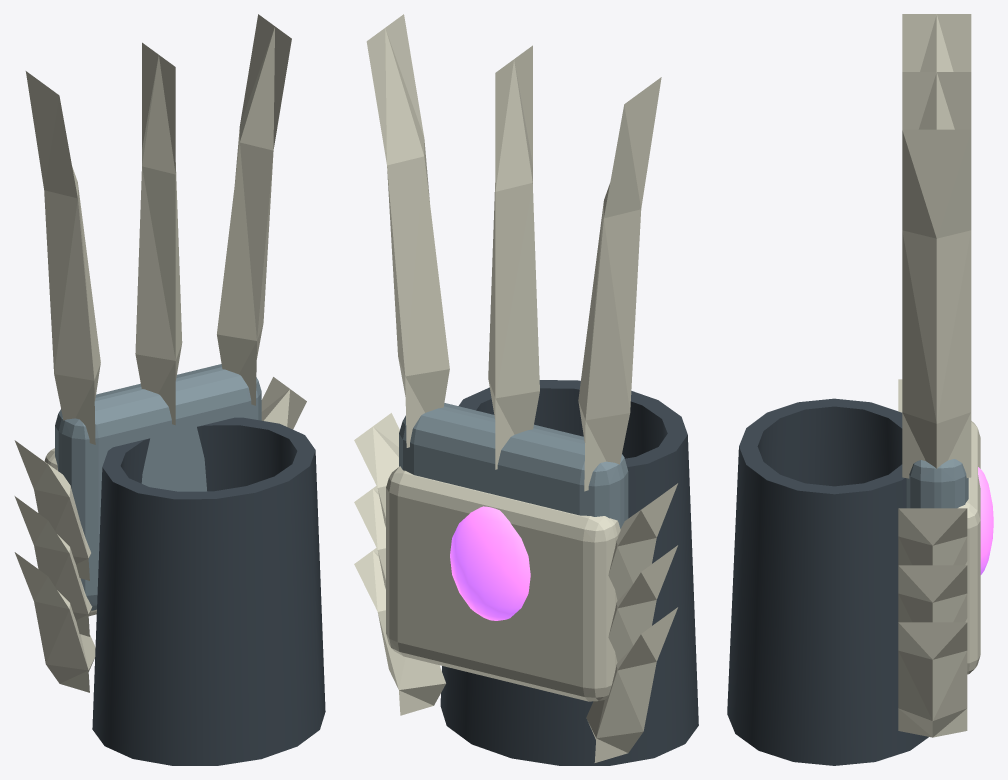
The model's file is YK_02_Claw_Weapon_E02.glb.
3 renders of one model, left to right at view 1: azimuth 30°, elevation 25°; view 2: azimuth 150°, elevation 25°; view 3: azimuth 270°, elevation 25°, orthographic. The views are drawn at different scales.
Visible parts, largest first — view 1: SM_YK_02_Claw_Weapon_P00, SM_YK_02_Claw_Weapon_P02; view 2: SM_YK_02_Claw_Weapon_P00, SM_YK_02_Claw_Weapon_P01, SM_YK_02_Claw_Weapon_P02; view 3: SM_YK_02_Claw_Weapon_P00, SM_YK_02_Claw_Weapon_P02, SM_YK_02_Claw_Weapon_P01.
Boxes of the visible parts, box(x1,y1,x2,y2) form: SM_YK_02_Claw_Weapon_P00: box(25, 14, 325, 765); SM_YK_02_Claw_Weapon_P02: box(14, 377, 306, 692); SM_YK_02_Claw_Weapon_P00: box(366, 14, 698, 765); SM_YK_02_Claw_Weapon_P01: box(386, 466, 620, 701); SM_YK_02_Claw_Weapon_P02: box(354, 413, 677, 762); SM_YK_02_Claw_Weapon_P00: box(727, 14, 993, 765); SM_YK_02_Claw_Weapon_P02: box(898, 379, 967, 737); SM_YK_02_Claw_Weapon_P01: box(958, 421, 980, 674).
Size of the model in its own units: 0.31 by 0.72 by 0.271.
